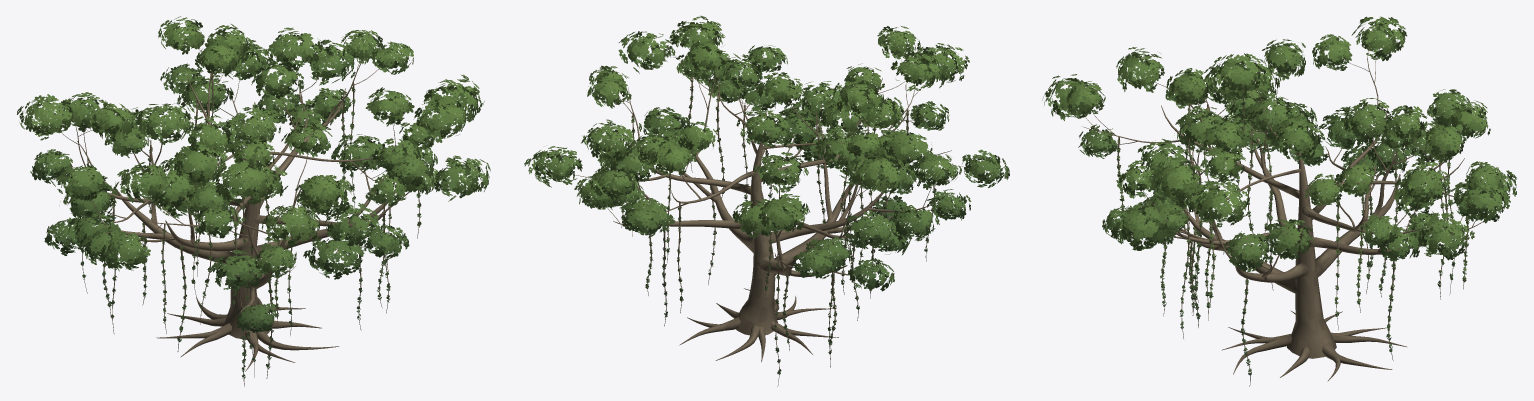
File: tree.gltf
3 views of the same model, side by side, from view 1: azimuth 30°, elevation 25°; view 2: azimuth 150°, elevation 25°; view 3: azimuth 270°, elevation 25° (orthographic). The views are drawn at different scales.
Visible parts, largest first — view 1: Tree_LOD0; view 2: Tree_LOD0; view 3: Tree_LOD0.
Part boxes in pixels (x1,y1,x2,y2): Tree_LOD0: (17,16,490,386); Tree_LOD0: (524,15,1009,386); Tree_LOD0: (1042,16,1516,386).
Bounding box in the file's own units: 34.5 × 21.32 × 35.76.
2 materials, 2 textured.
